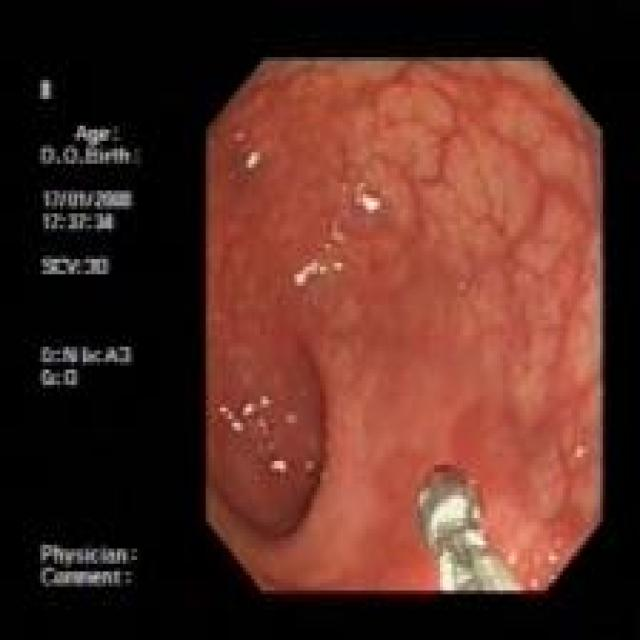color misalignment: (36, 74, 143, 592)
instrument: (415, 461, 515, 589)
specularity: (430, 496, 466, 533), (290, 263, 316, 288), (437, 553, 455, 589), (464, 527, 488, 549), (358, 191, 380, 211), (269, 459, 288, 474), (472, 503, 483, 527), (245, 150, 257, 166), (240, 398, 252, 413)
